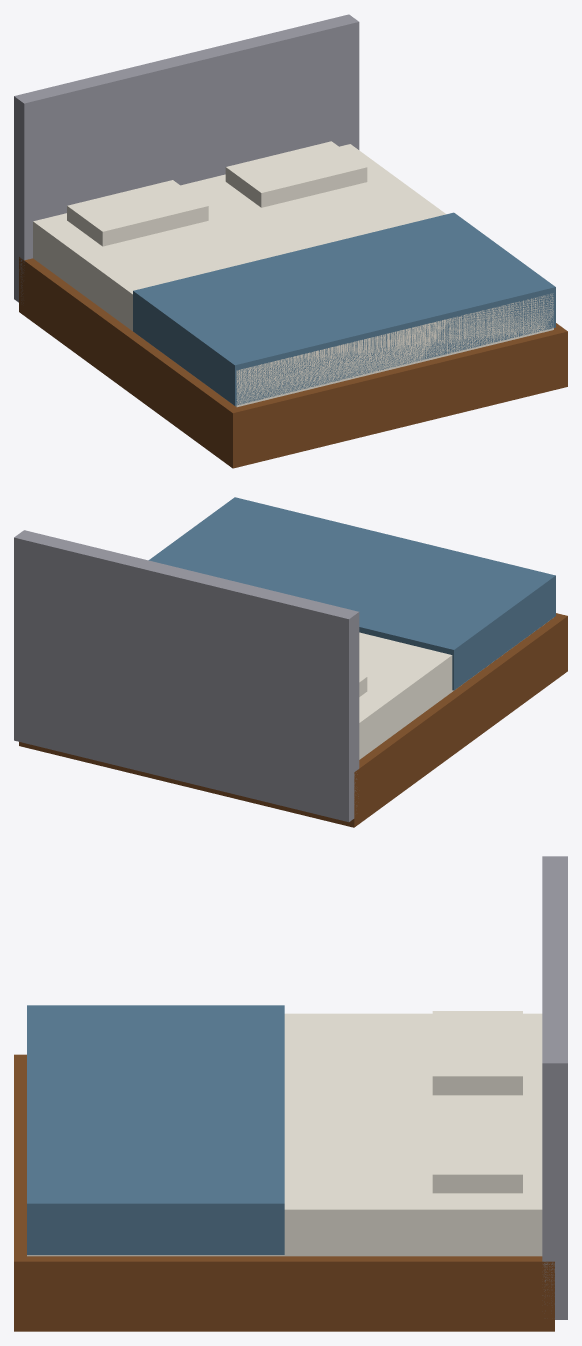
The model's file is bed_king.glb.
The picture shows the model from 3 angles, top to bottom: view 1: azimuth 30°, elevation 25°; view 2: azimuth 150°, elevation 25°; view 3: azimuth 270°, elevation 25°; orthographic projection. The views are drawn at different scales.
Visible parts, largest first — view 1: bed_king; view 2: bed_king; view 3: bed_king.
Part boxes in pixels (box(x1,y1,x2,y2)): bed_king: box(14, 14, 567, 468); bed_king: box(14, 497, 567, 827); bed_king: box(14, 856, 567, 1331).
Size of the model in its own units: 1.9 by 1.15 by 2.15.
